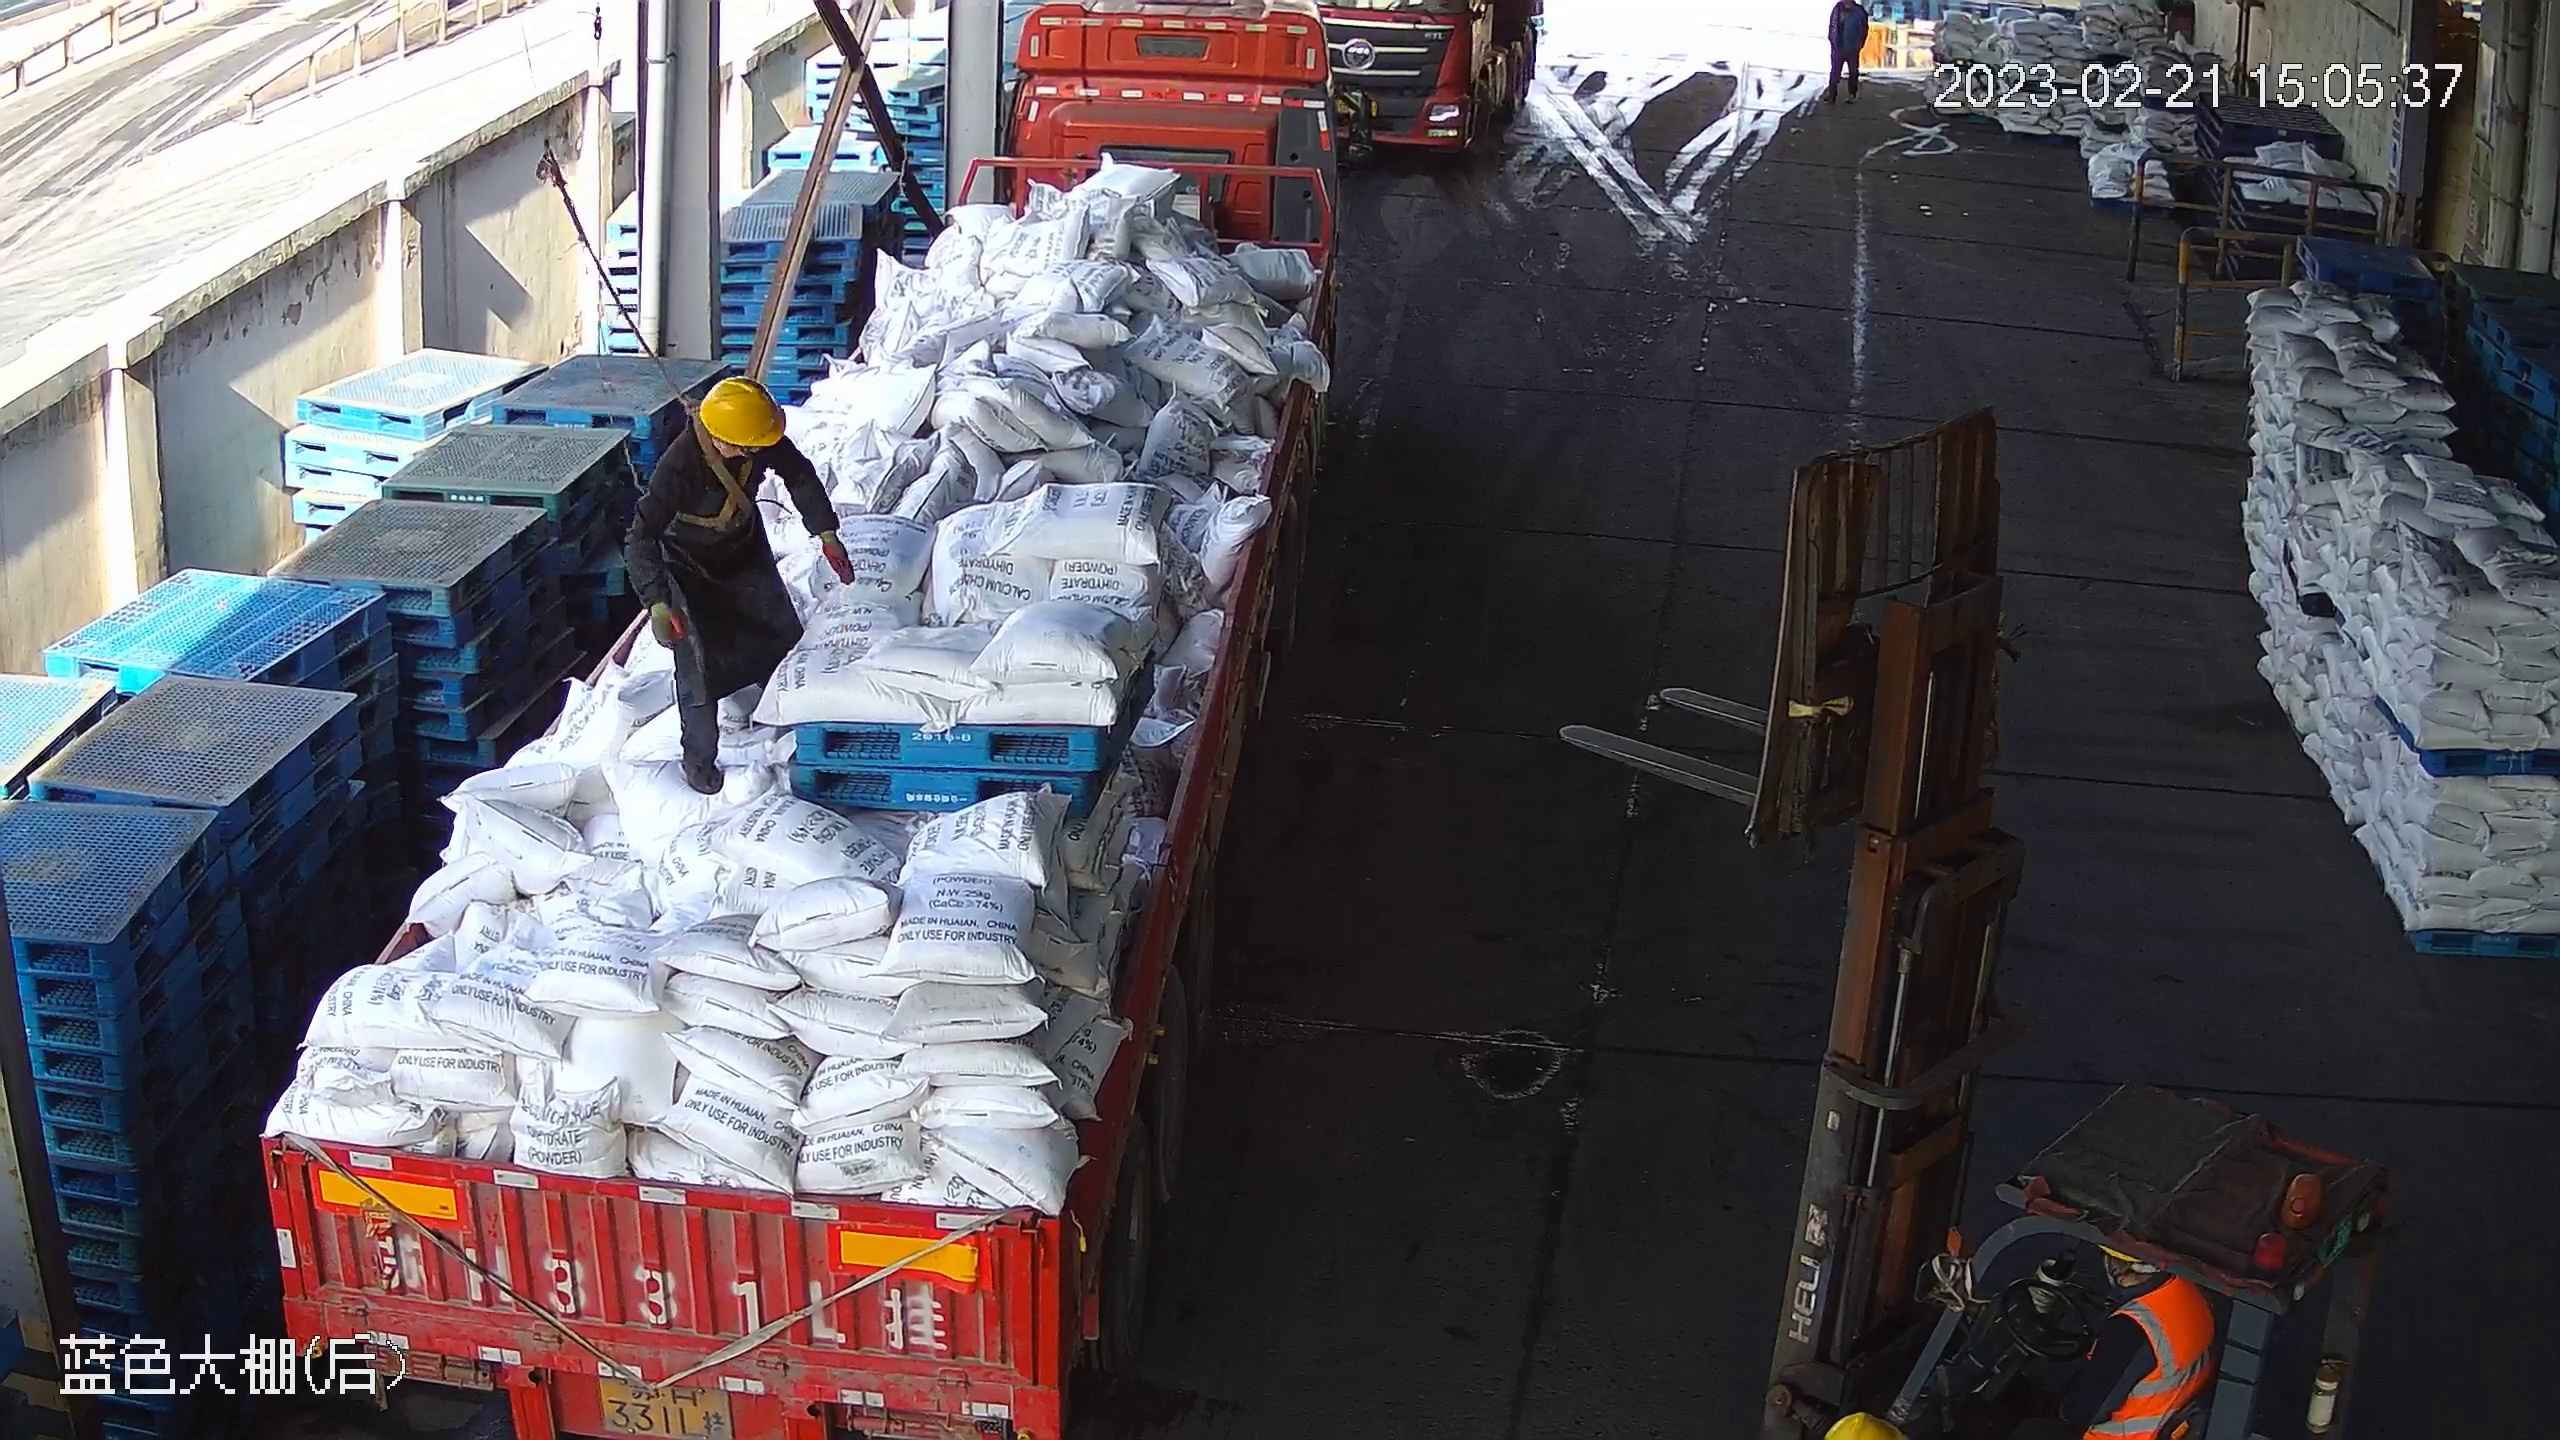belt: (663, 383, 761, 534)
head: (640, 383, 819, 520)
helmet: (702, 374, 790, 450)
people: (623, 378, 853, 804), (1823, 1, 1871, 101)
truck: (247, 1, 1361, 1440), (1321, 1, 1546, 167)
